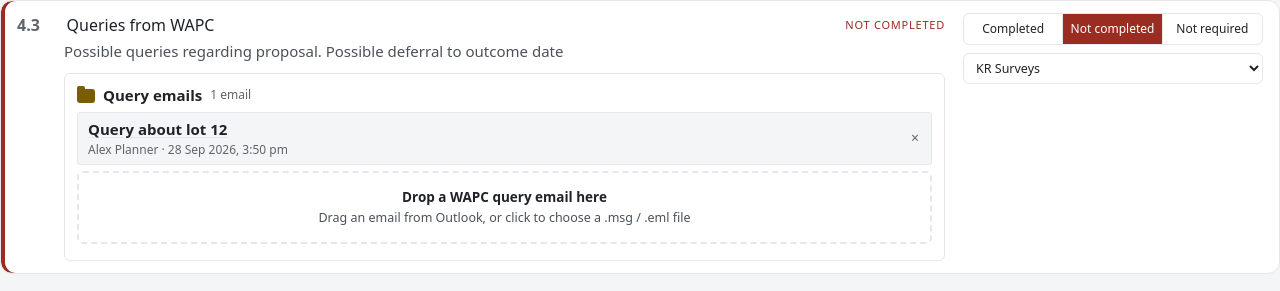
Test case: emails panel › removes an email after Yes and keeps it after No
The width and height of the screenshot is (1280, 291).
Click the button named "Remove Query about lot 12" at {"x": 915, "y": 138}, box [905,129,925,147]
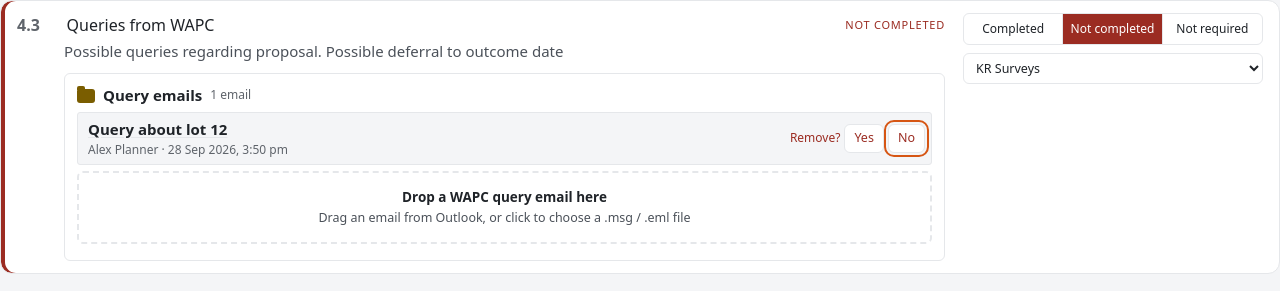
Click the button "No" at {"x": 906, "y": 138}, box [888,124,925,153]
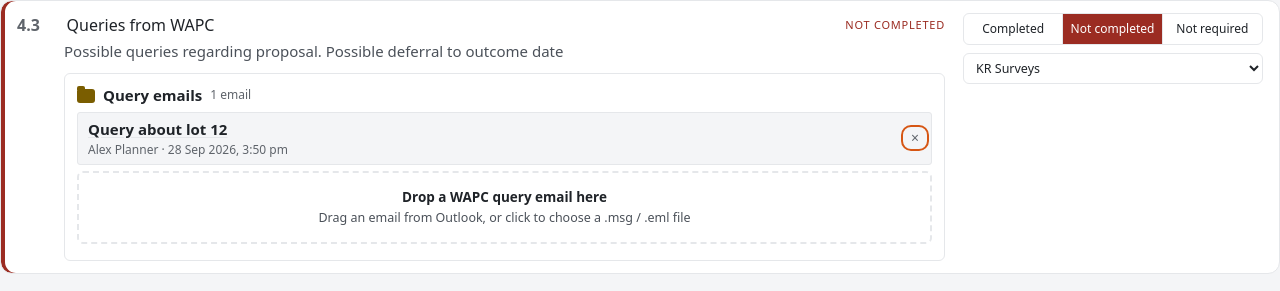
Click the button named "Remove Query about lot 12" at {"x": 915, "y": 138}, box [905,129,925,147]
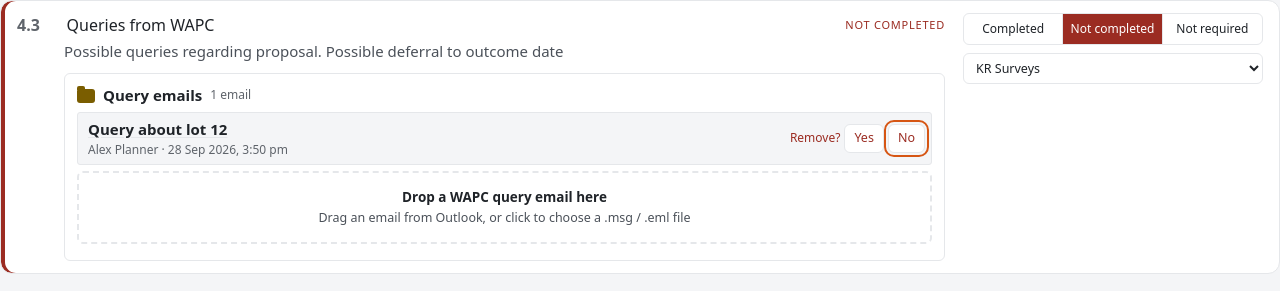
Click the button "Yes" at {"x": 864, "y": 138}, box [844,124,884,153]
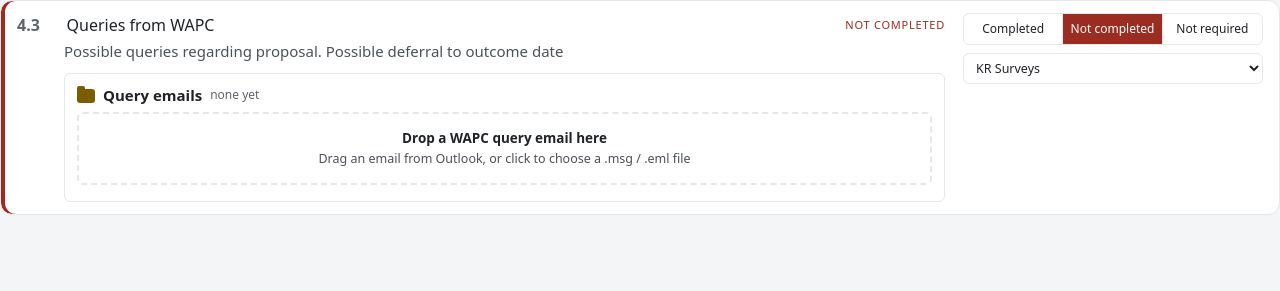
Now the text "none yet" is shown, box [210,86,259,104]
